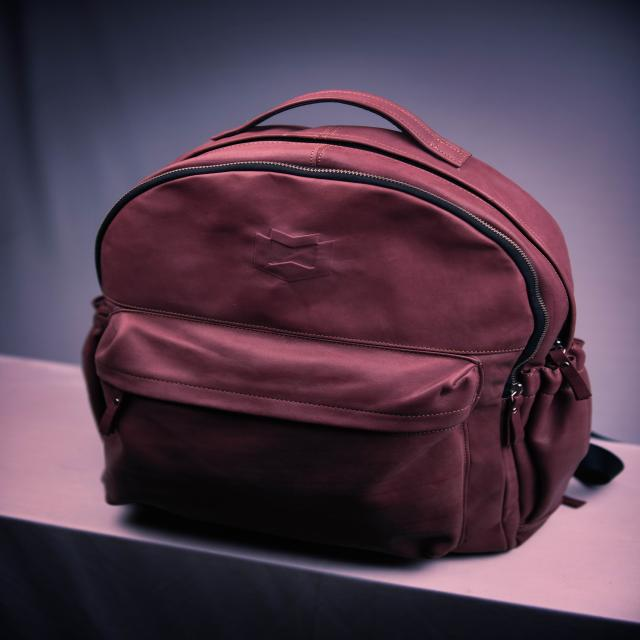backpack: (84, 88, 616, 557)
